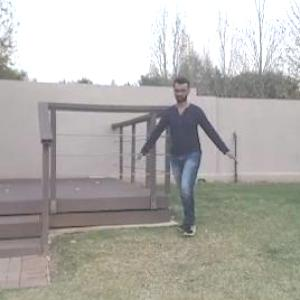land: (128, 64, 240, 256)
